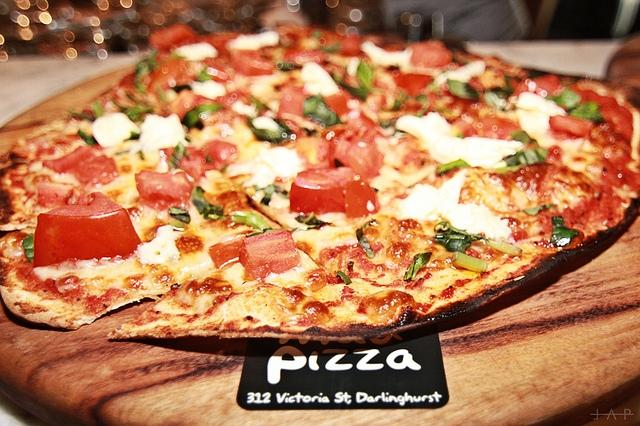tomato: (33, 191, 141, 268), (290, 168, 380, 217), (238, 229, 302, 280), (134, 169, 196, 213), (332, 141, 384, 184), (463, 114, 522, 140), (42, 146, 96, 173), (148, 25, 198, 53), (408, 40, 454, 68), (389, 70, 434, 97), (550, 115, 594, 139), (236, 50, 271, 74), (323, 95, 351, 115)
